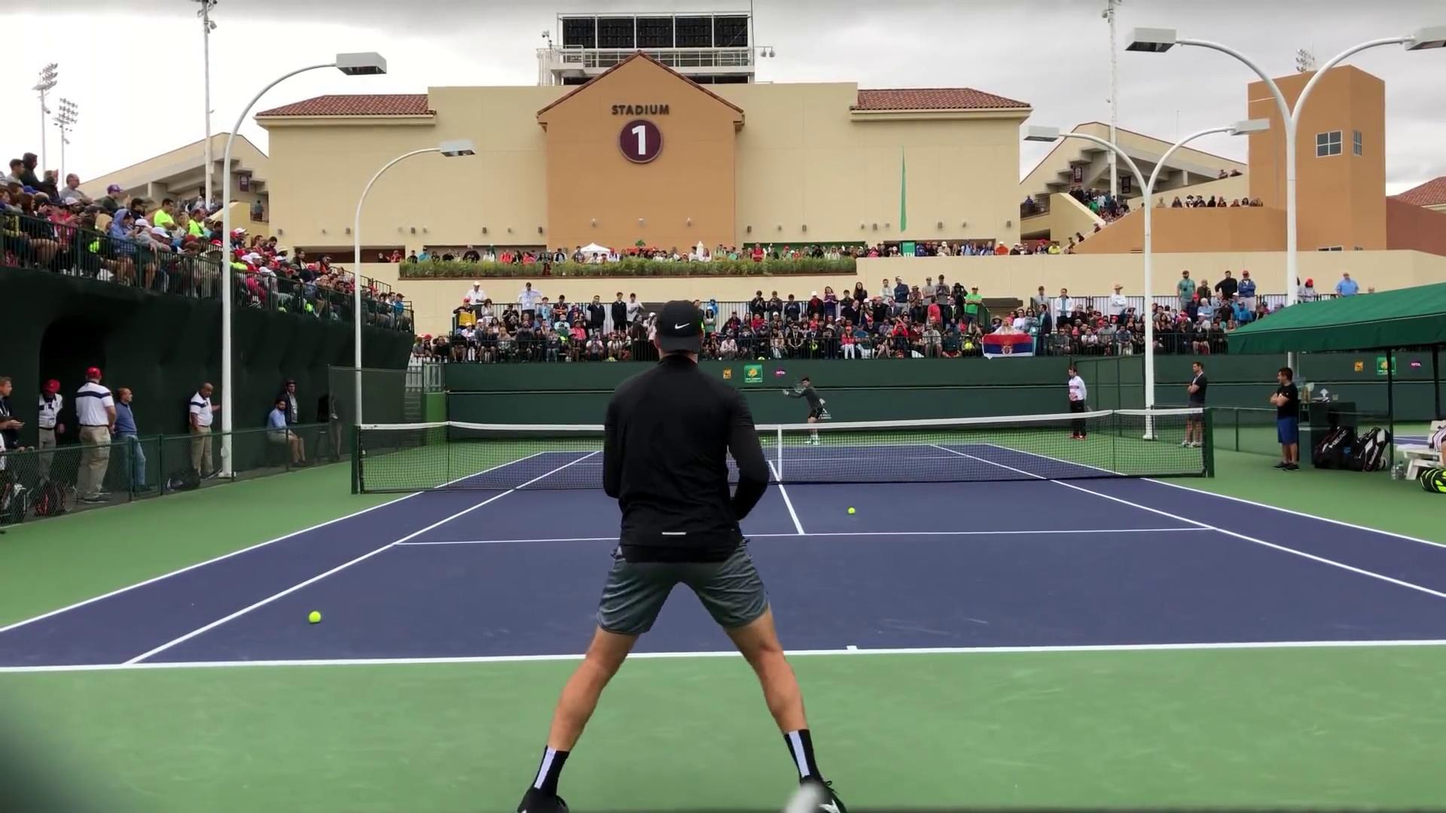ball: (308, 611, 322, 623), (848, 507, 855, 514)
